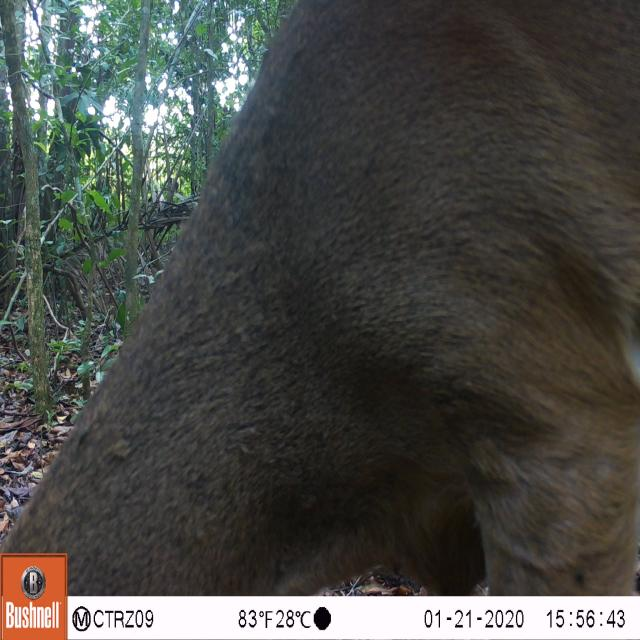White-tailed Deer: (2, 3, 640, 599)
